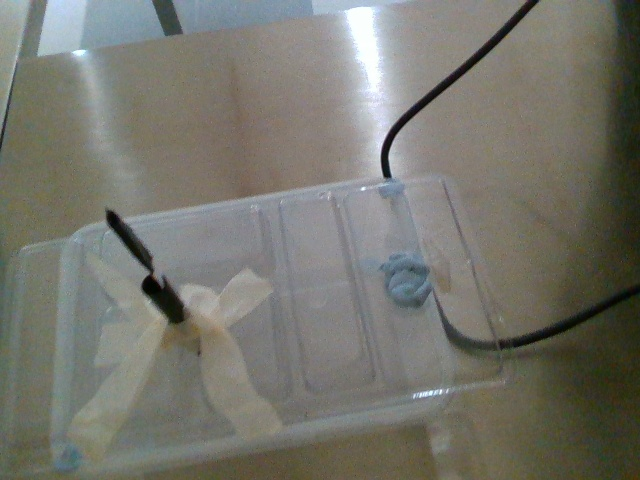test_strip: (101, 207, 160, 282)
